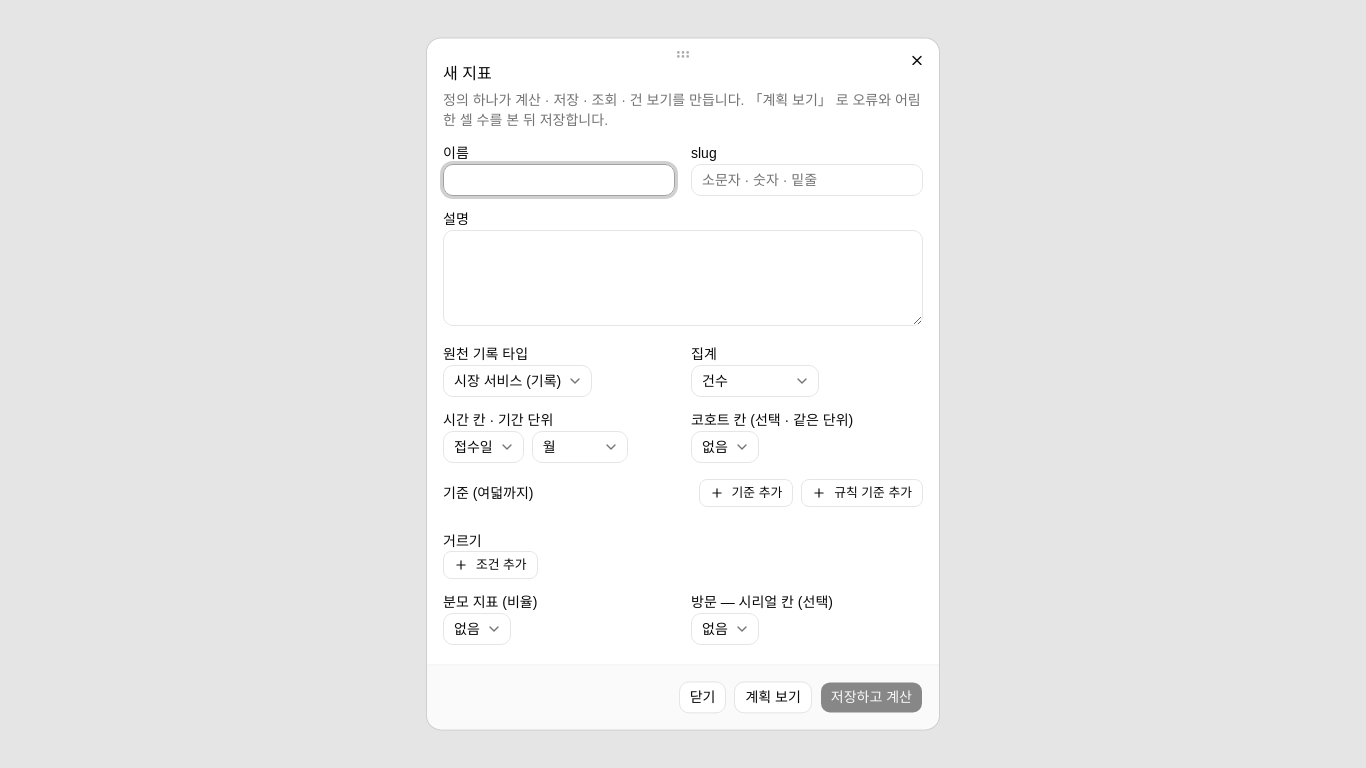
it: 지표 정의 › 규칙 기준 추가는 빈 규칙 하나와 「기타」 로 선다
Expected: the text "시장 서비스 (기록)" is shown, [454,371,561,391]
Step 1. Click the button "규칙 기준 추가" → (862, 493), box [801,479,923,507]
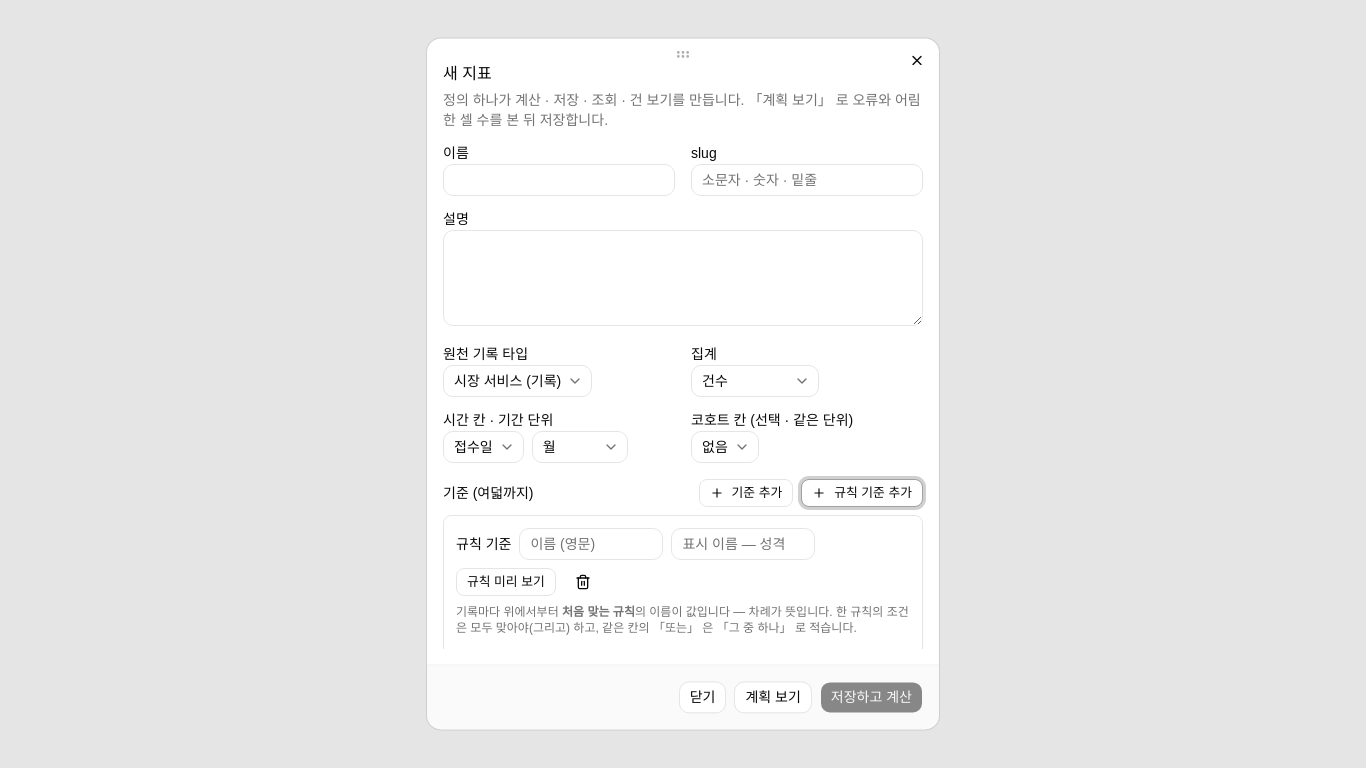
Step 2. Type "nature" into the field named "기준 1 이름" → (591, 544), box [519,528,663,560]
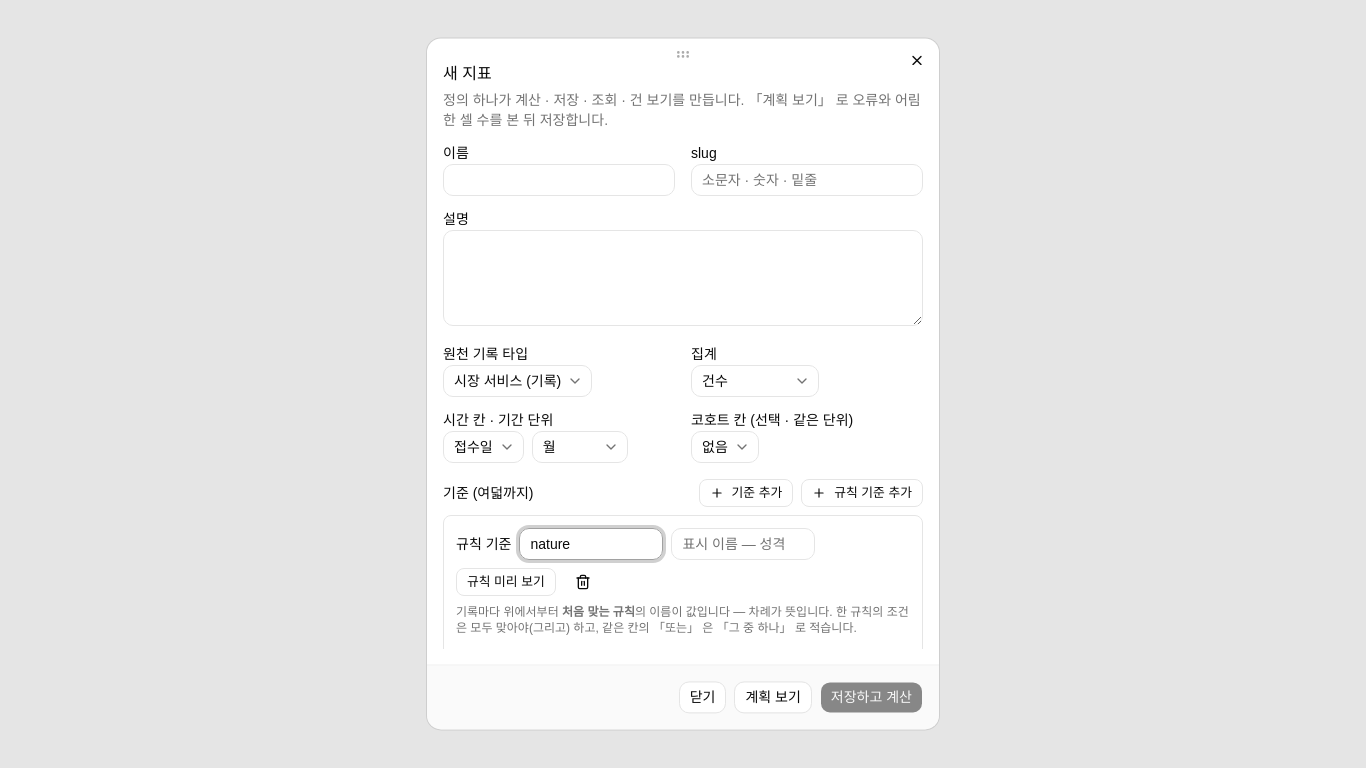
Step 3. Click the button "규칙 미리 보기" → (506, 582), box [456,568,556,596]
(page scrolled)
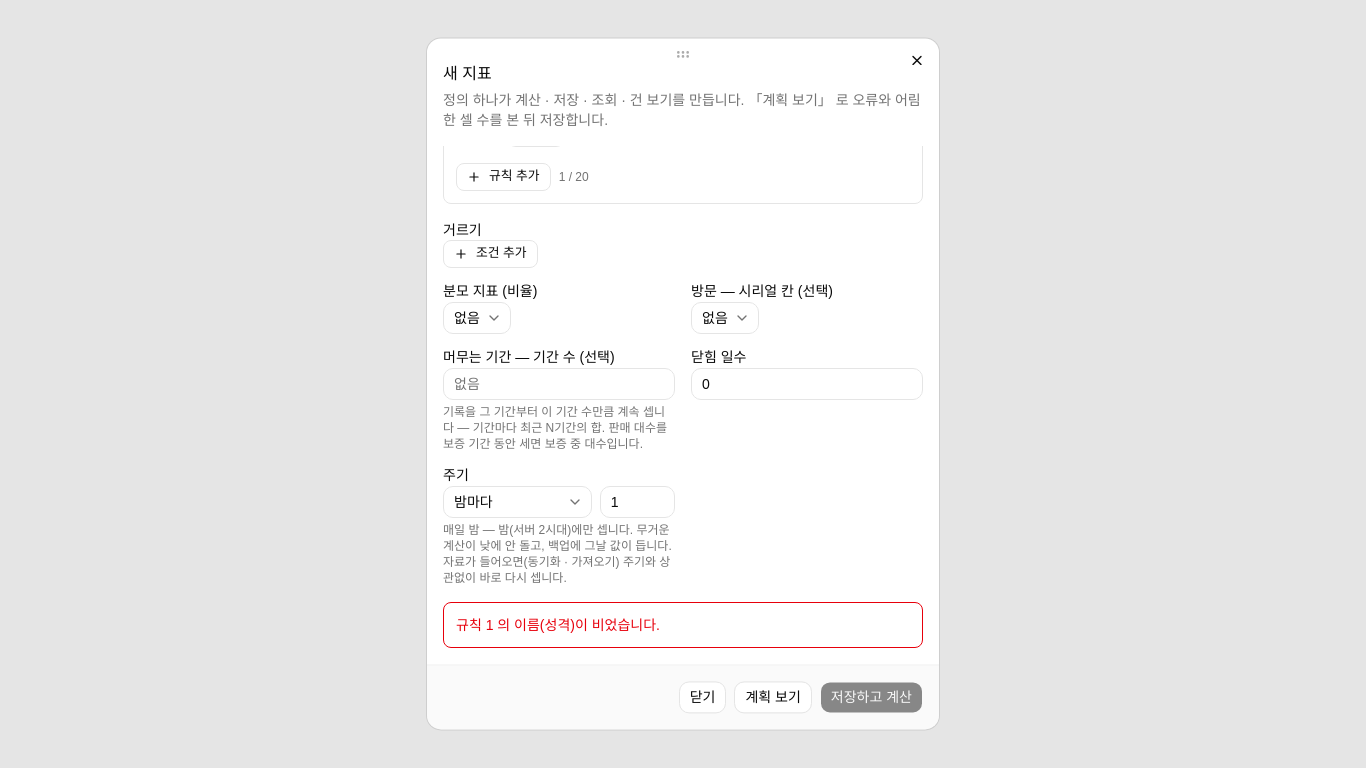
Now the text "규칙 1 의 이름(성격)이 비었습니다." is shown, box [456,617,660,633]
